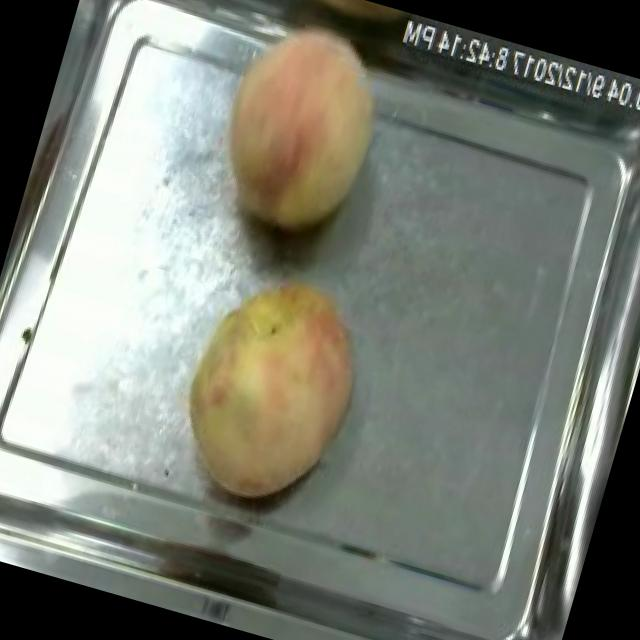Fruit: (150, 246, 388, 524), (186, 0, 412, 261)
